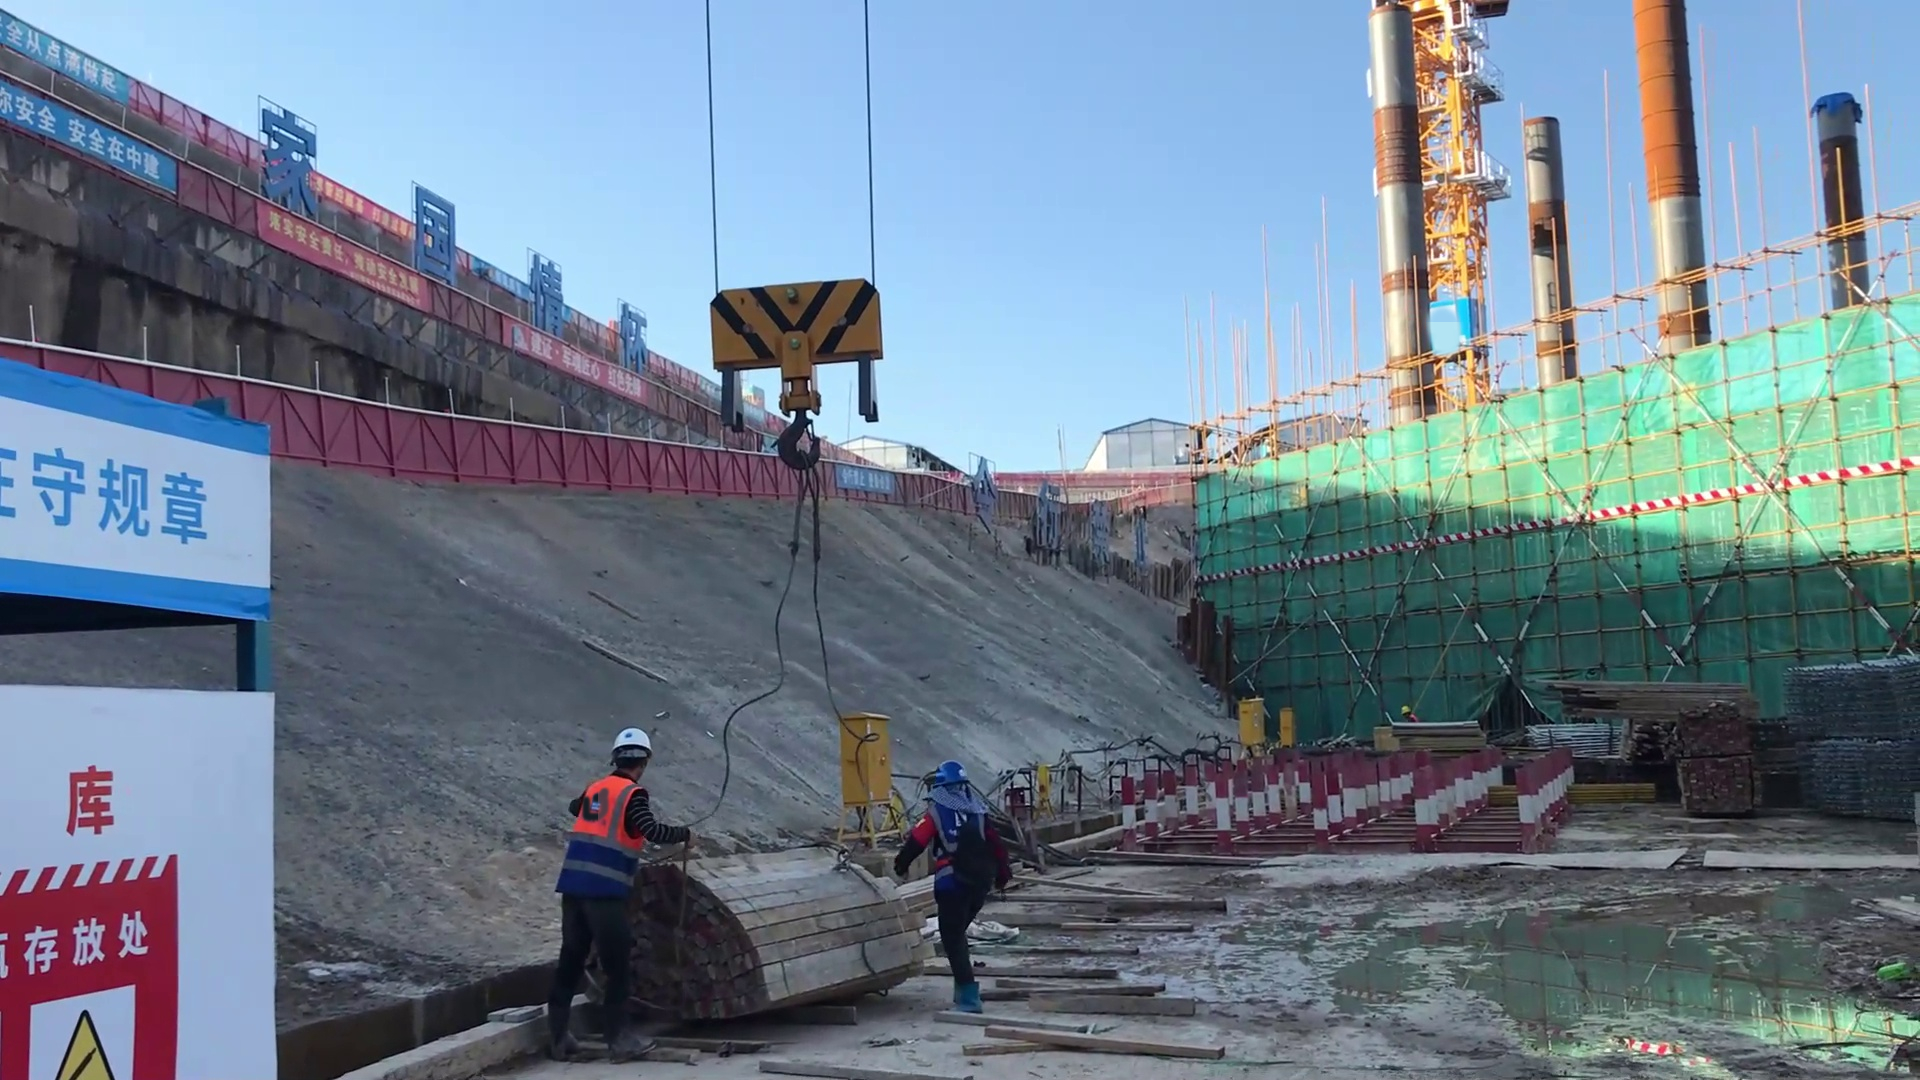ebox: (835, 711, 890, 806), (1233, 699, 1262, 752), (1278, 708, 1298, 746)
fence: (264, 383, 523, 479), (522, 427, 793, 500)
helmet: (588, 711, 658, 771), (928, 756, 971, 796), (1401, 704, 1409, 715)
hook: (705, 271, 889, 419)
person: (556, 710, 675, 1063), (884, 758, 1028, 1021)
scaffold: (1770, 652, 1912, 823)
slogan: (1, 406, 245, 594), (1, 812, 173, 1072), (1, 101, 244, 272), (263, 213, 454, 353), (1, 7, 169, 112)
vest: (566, 776, 635, 855)
wood: (1043, 868, 1232, 1075), (685, 845, 873, 1044), (1541, 672, 1762, 731)
